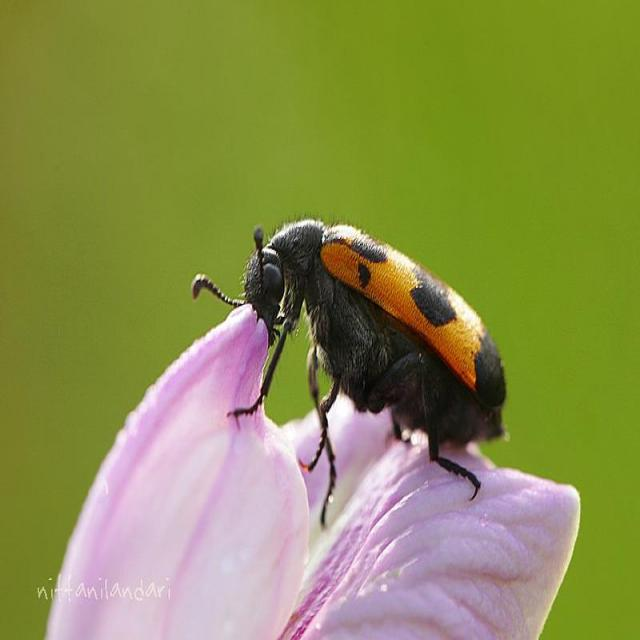BlisterBeetle-Adult-: (186, 203, 513, 531)
